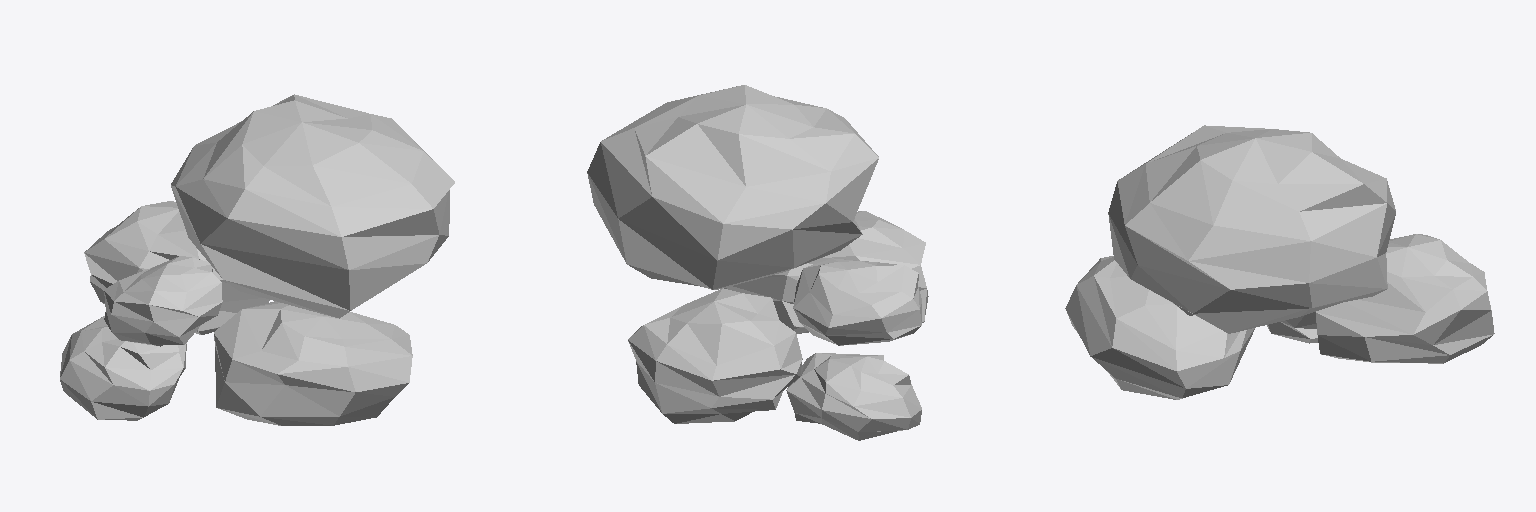
File: tree Leaves.obj
3 renders of one model, left to right at view 1: azimuth 30°, elevation 25°; view 2: azimuth 150°, elevation 25°; view 3: azimuth 270°, elevation 25°, orthographic.
Parts seen in each view (by area): view 1: Leaves; view 2: Leaves; view 3: Leaves.
Part boxes in pixels (x1,y1,x2,y2): Leaves: (60, 94, 454, 425); Leaves: (587, 85, 928, 440); Leaves: (1065, 125, 1494, 399).
Size of the model in its own units: 0.136 by 0.1029 by 0.149.